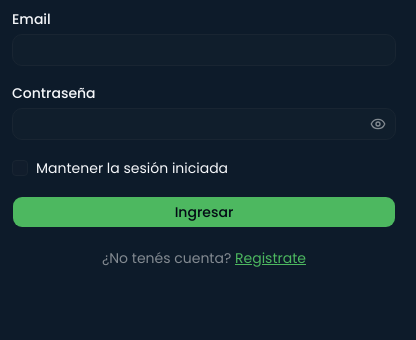
Test: LoginForm › muestra errores de validación si se envía el formulario vacío
Click the button "Ingresar".
click(204, 212)  # box [12,196,396,228]
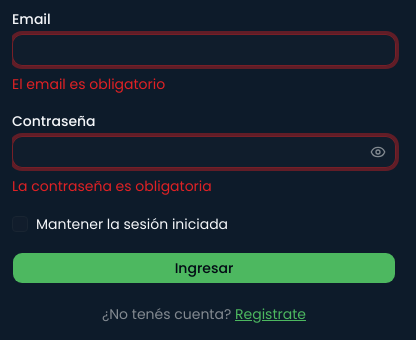
Expected: the text "El email es obligatorio" is shown, [12,74,165,94]
Expected: the text "La contraseña es obligatoria" is shown, [12,176,212,196]
